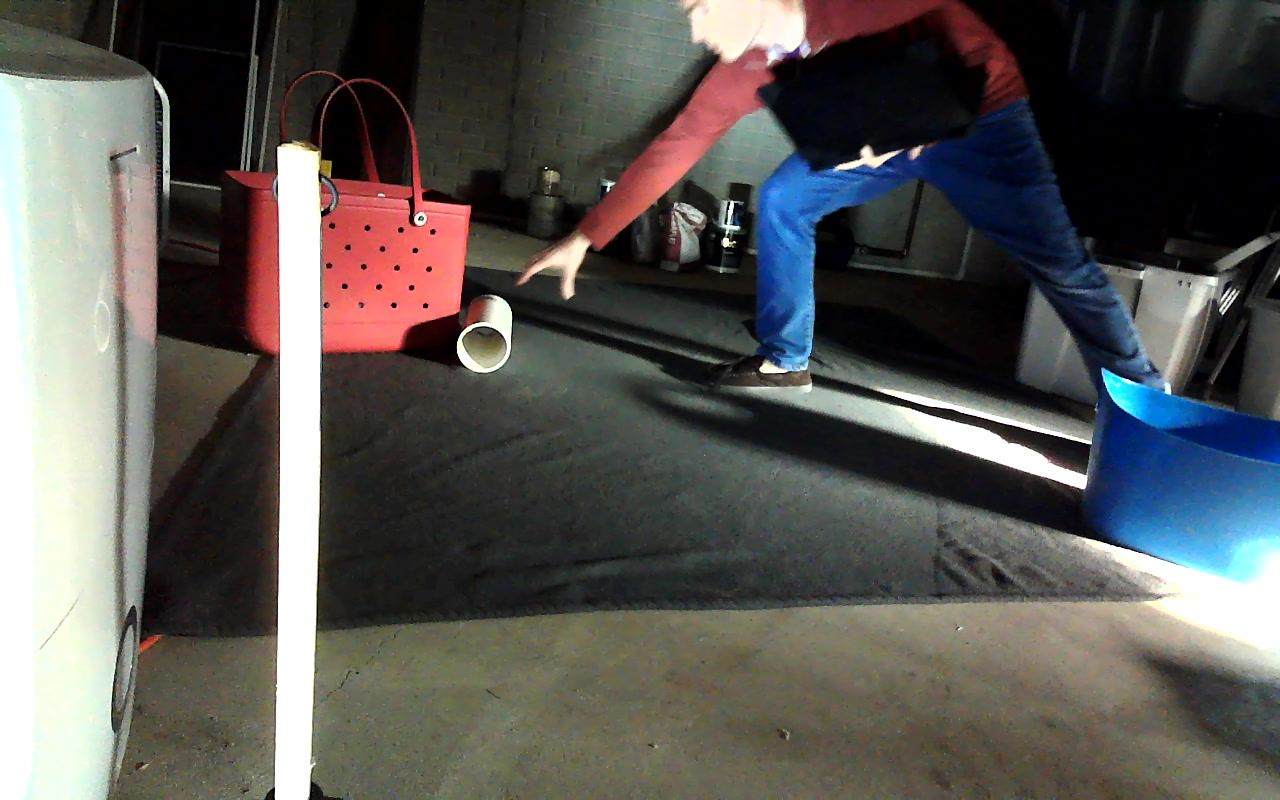coral: (457, 295, 511, 374)
